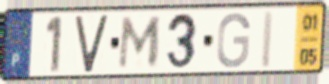1: (44, 14, 65, 75)
3: (166, 10, 199, 73)
G: (214, 11, 252, 71)
I: (258, 9, 277, 71)
M: (116, 15, 164, 71)
V: (73, 12, 111, 74)
